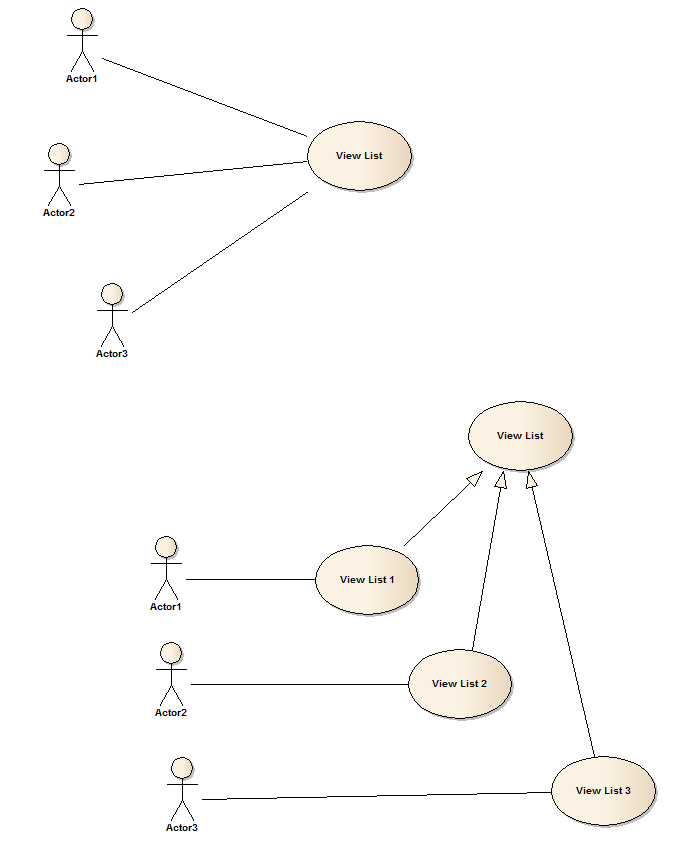actor: (62, 6, 97, 78), (94, 282, 132, 348), (151, 535, 188, 601), (40, 142, 75, 209), (166, 749, 196, 823), (156, 640, 188, 707)
association: (132, 188, 308, 316), (524, 471, 596, 758), (98, 54, 311, 137), (472, 471, 510, 648), (403, 468, 485, 547), (77, 161, 304, 189), (200, 787, 551, 804), (188, 673, 409, 694), (187, 569, 315, 596)
text: (427, 674, 496, 693), (571, 782, 637, 800), (330, 143, 389, 163), (496, 425, 550, 444), (337, 572, 398, 587), (161, 821, 203, 837), (152, 706, 194, 720), (38, 206, 77, 220), (93, 348, 132, 361), (149, 600, 184, 614), (65, 73, 96, 85)
use_case: (466, 399, 576, 475), (304, 119, 414, 193), (406, 646, 513, 720), (312, 544, 420, 617), (552, 755, 657, 828)
